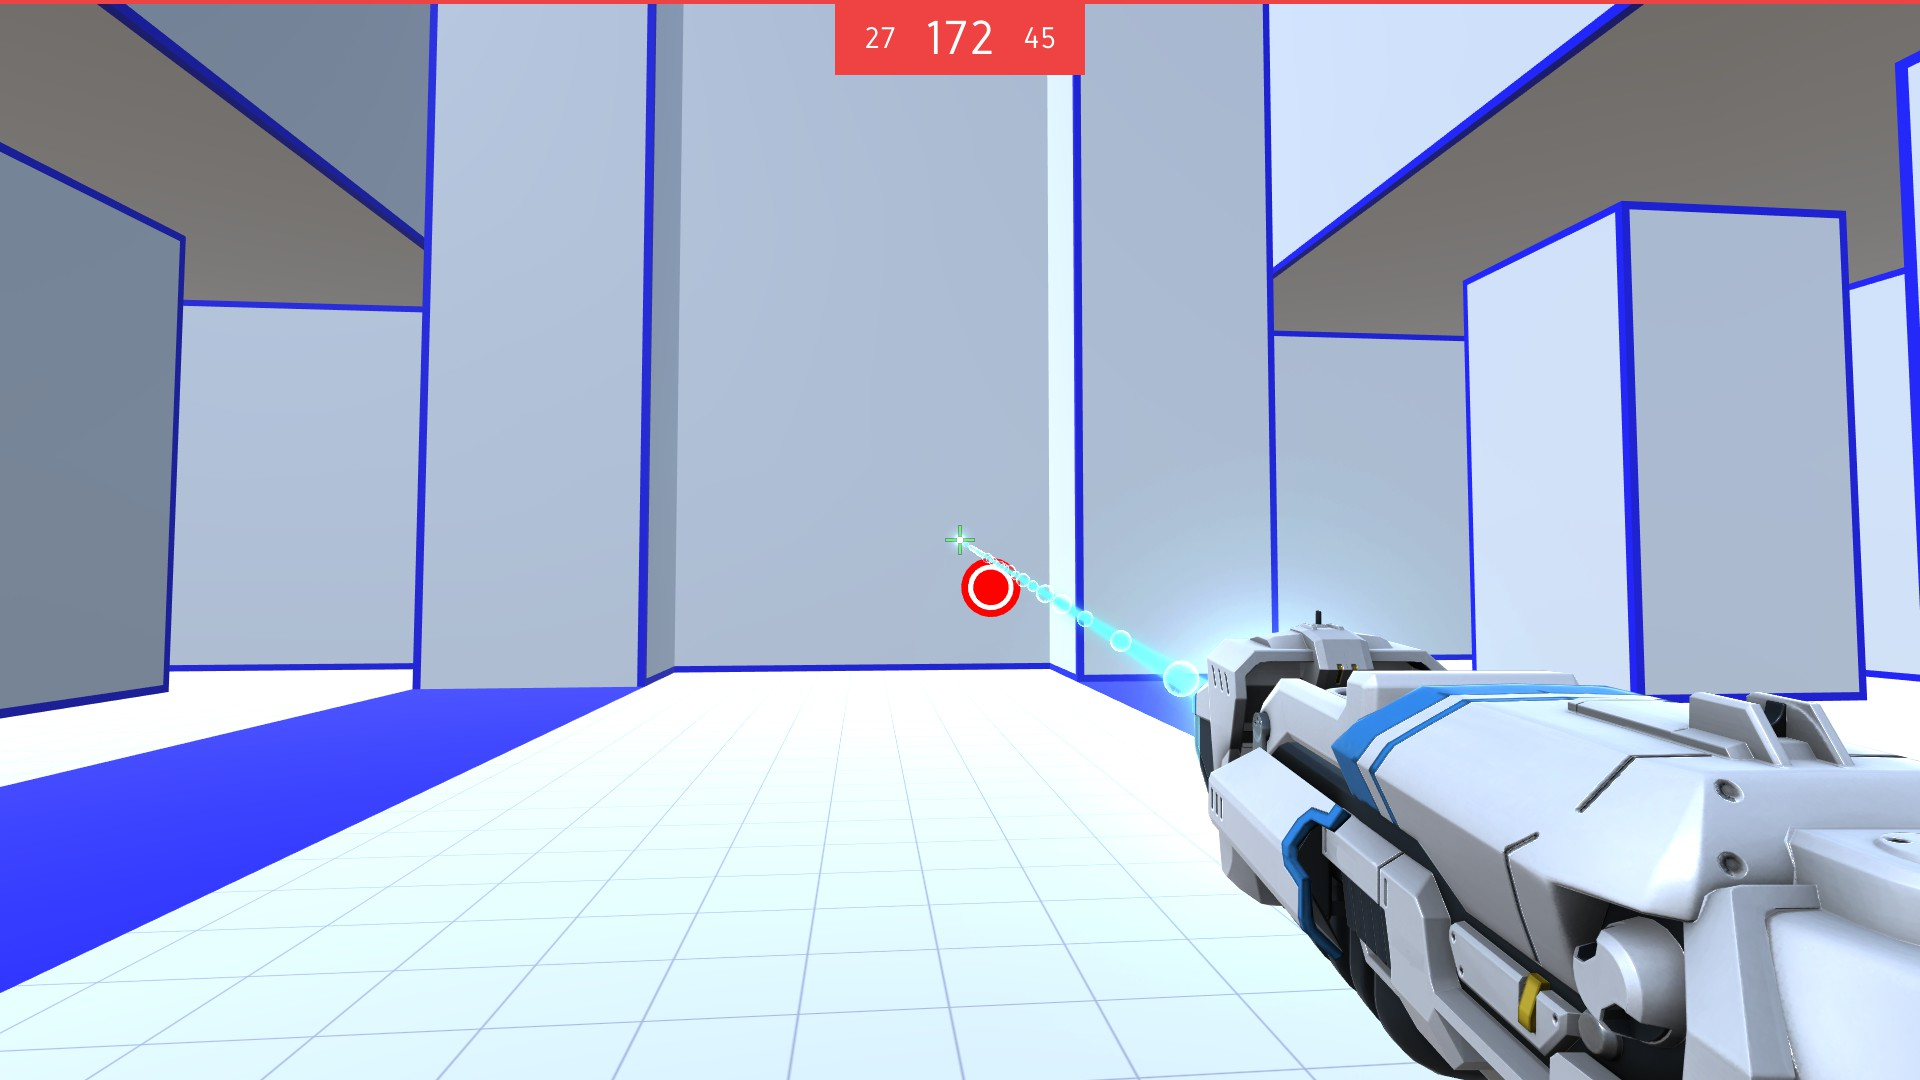target: (957, 556, 1022, 618)
